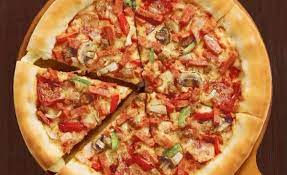pizza: (13, 4, 283, 171)
